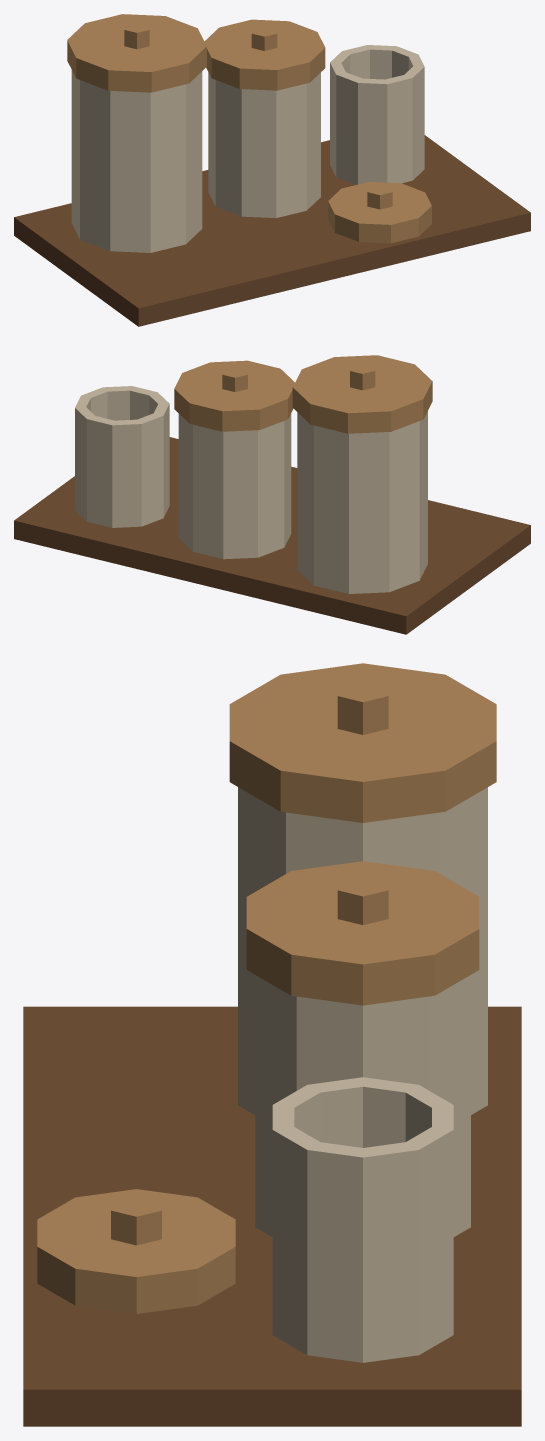
Rendered from FN_Canister_Set.glb.
3 renders of one model, top to bottom at view 1: azimuth 30°, elevation 25°; view 2: azimuth 150°, elevation 25°; view 3: azimuth 270°, elevation 25°, orthographic. The views are drawn at different scales.
Parts seen in each view (by area): view 1: FN_Canister_Set; view 2: FN_Canister_Set; view 3: FN_Canister_Set.
Boxes of the visible parts, left/top/right/bottom form: FN_Canister_Set: left=14, top=14, right=530, bottom=326; FN_Canister_Set: left=14, top=355, right=530, bottom=634; FN_Canister_Set: left=23, top=663, right=521, bottom=1426.
Size of the model in its own units: 0.4 by 0.212 by 0.22.
Materials: 1 (1 with a texture image).
